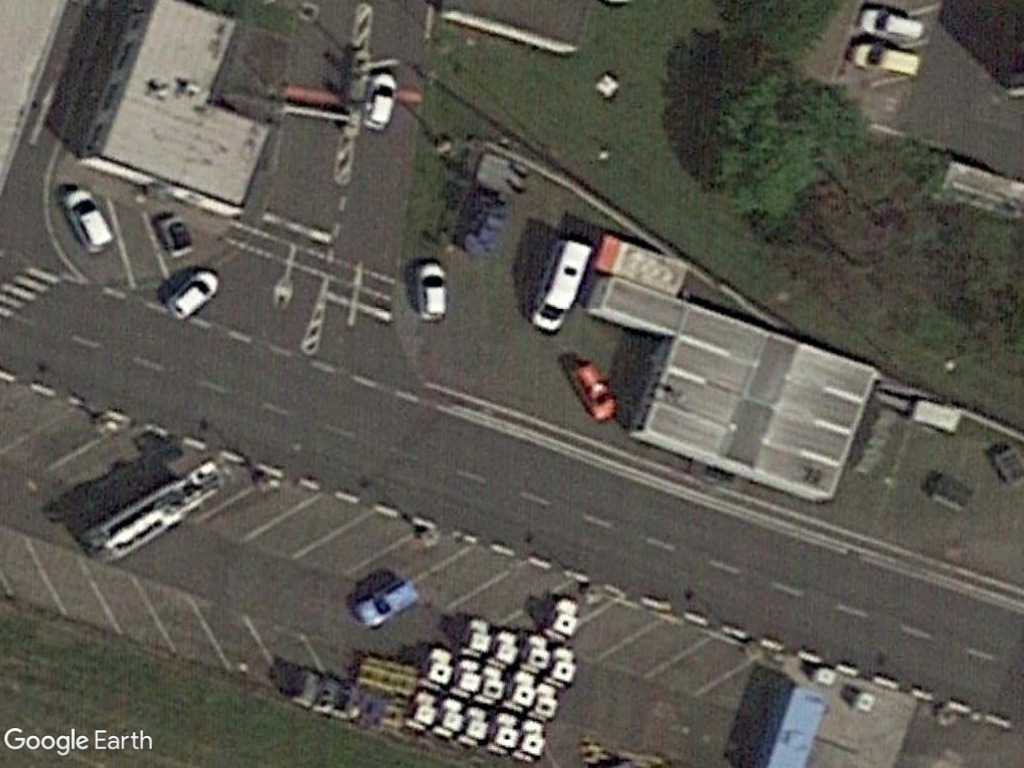car: (57, 182, 120, 258), (353, 577, 427, 631), (162, 264, 223, 321), (409, 254, 452, 323), (358, 69, 399, 134)
van: (517, 234, 594, 337), (844, 36, 926, 81), (856, 4, 929, 50)
